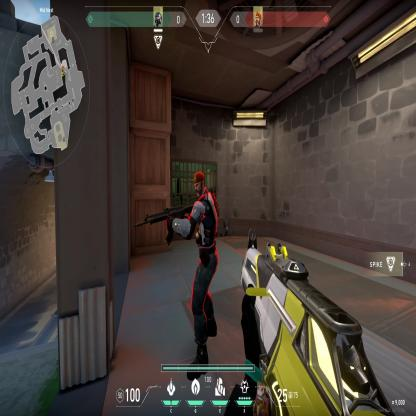enemy: (160, 171, 223, 364)
